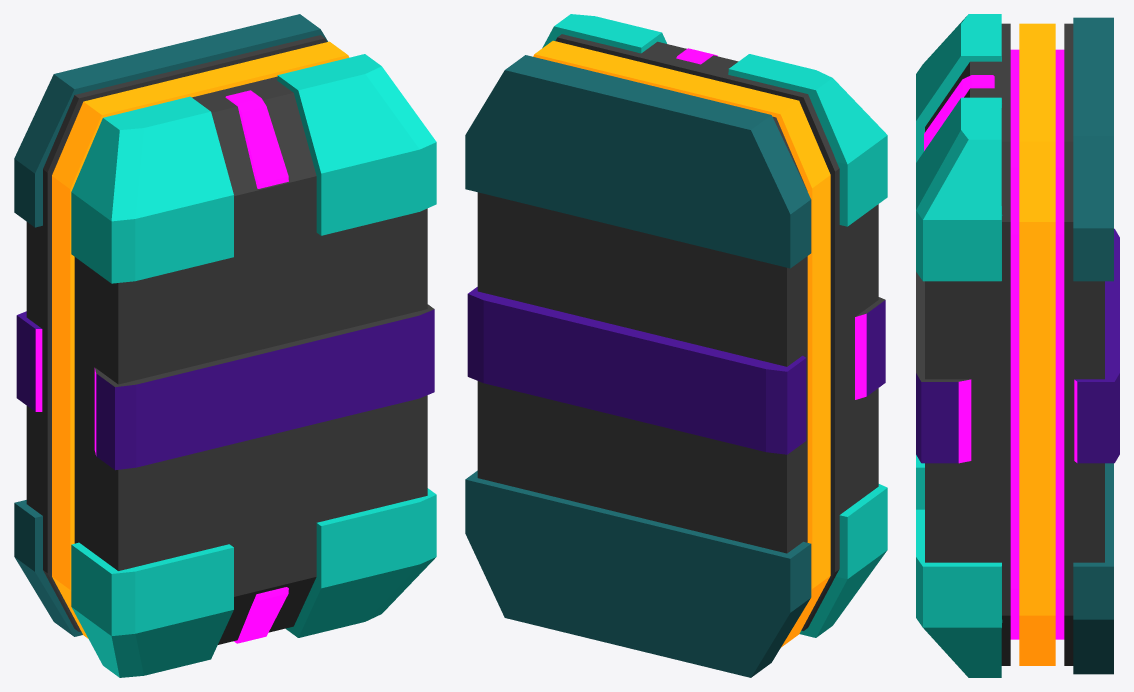
File: Container.fbx
3 renders of one model, left to right at view 1: azimuth 30°, elevation 25°; view 2: azimuth 150°, elevation 25°; view 3: azimuth 270°, elevation 25°, orthographic.
Parts seen in each view (by area): view 1: Container_LOD0; view 2: Container_LOD0; view 3: Container_LOD0.
Boxes of the visible parts, bbox=[...] form: Container_LOD0: bbox=[14, 14, 436, 677]; Container_LOD0: bbox=[465, 14, 887, 677]; Container_LOD0: bbox=[916, 14, 1119, 677].
Size of what is drawn, in the model's own units: 197 by 317 by 109.
